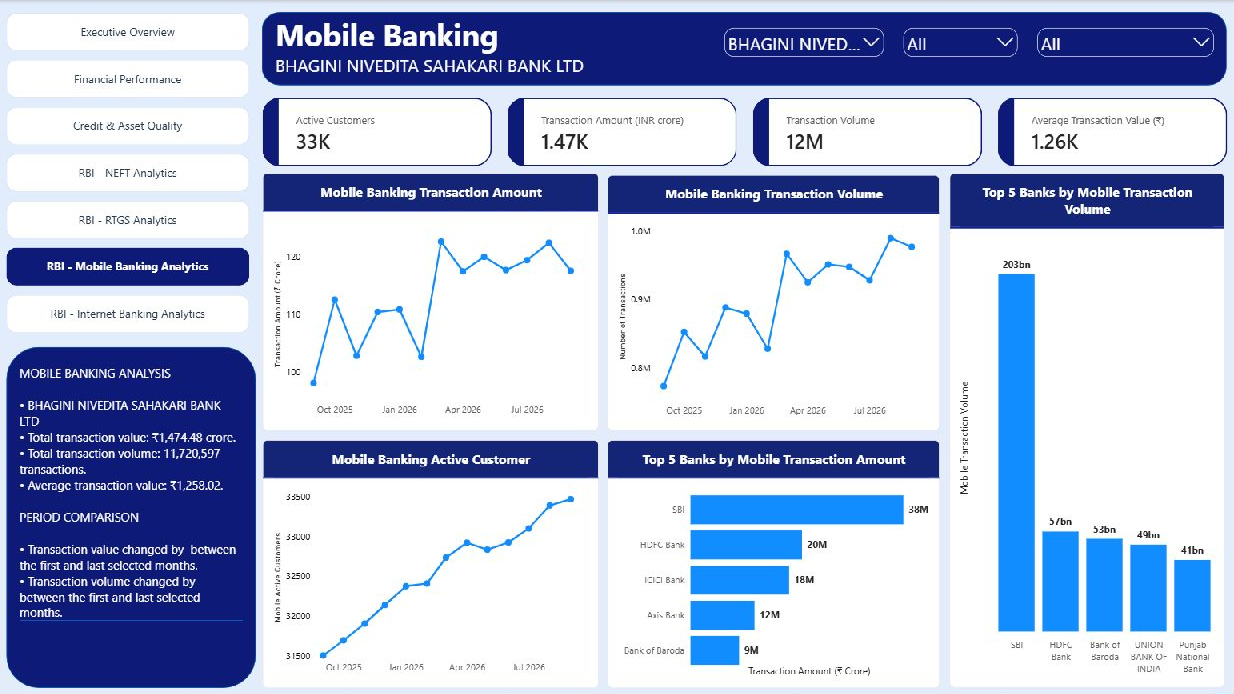

What the dashboard file says about the page in this screenshot:
{"tool":"powerbi","page":{"name":"RBI - Mobile Banking Analytics","canvas":[1920,1080],"ordinal":5},"visuals":[{"type":"shape","box":[408,18,1510,114],"z":0},{"type":"slicer","fields":{"Values":["Mobile Banking.Year"]},"box":[1597.3,18.5,304.6,111.1],"z":1000},{"type":"pageNavigator","box":[0,0,408.3,539.3],"z":2000},{"type":"shape","box":[0,540,408,530],"z":3000},{"type":"textbox","box":[31.4,567.1,347.1,502.9],"z":4000},{"type":"textbox","title":"Mobile Banking","box":[408.5,10.5,703.3,132.7],"z":5000},{"type":"cardVisual","fields":{"Data":["Mobile Banking.Mobile Active Customers (reported)","Mobile Banking.Mobile Transaction Amount (INR crore)","Mobile Banking.Mobile Transaction Volume","Mobile Banking.Mobile Average Transaction Value (₹)"]},"box":[408.5,132.7,1511.9,136.9],"z":6000},{"type":"lineChart","title":"Mobile Banking Transaction Amount ","fields":{"Category":["Mobile Banking.MonthDate"],"Y":["Mobile Banking.Mobile Transaction Amount (INR crore)"]},"box":[408.5,269.5,522.2,400.1],"z":7000},{"type":"lineChart","title":"Mobile Banking Transaction Volume ","fields":{"Category":["Mobile Banking.MonthDate"],"Y":["Mobile Banking.Mobile Transaction Volume"]},"box":[945.5,271.6,515.9,398],"z":8000},{"type":"clusteredBarChart","title":"Top 5 Banks by Mobile Transaction Amount","fields":{"Category":["Mobile Banking.Bank Name"],"Y":["Mobile Banking.Mobile Transaction Amount (INR crore)"]},"box":[945.5,684.4,515.9,385.3],"z":9000},{"type":"clusteredColumnChart","title":"Top 5 Banks by Mobile Transaction Volume","fields":{"Category":["Mobile Banking.Bank Name"],"Y":["Mobile Banking.Mobile Transaction Volume"]},"box":[1476.1,269.5,427.5,800.2],"z":10000},{"type":"slicer","fields":{"Values":["Mobile Banking.Month"]},"box":[1389.4,18.5,207.9,111.1],"z":11000},{"type":"slicer","fields":{"Values":["Mobile Banking.Bank Name"]},"box":[1111.8,19,278,111.6],"z":12000},{"type":"lineChart","title":"Mobile Banking Active Customer","fields":{"Category":["Mobile Banking.MonthDate"],"Y":["Mobile Banking.Mobile Active Customers"]},"box":[408.5,684.4,522.2,385.3],"z":13000}]}

Visuals, with their boxes on the page's 1920x1080 design canvas (x1, y1, x2, y2). These are canvas units, not pixel positions in the 1234x694 screenshot, which may show the page scaled, cropped or inside an application window:
shape: <region>408, 18, 1918, 132</region>
slicer - Mobile Banking.Year: <region>1597, 18, 1902, 130</region>
pageNavigator: <region>0, 0, 408, 539</region>
shape: <region>0, 540, 408, 1070</region>
textbox: <region>31, 567, 378, 1070</region>
"Mobile Banking" textbox: <region>408, 10, 1112, 143</region>
cardVisual - Mobile Banking.Mobile Active Customers (reported) x Mobile Banking.Mobile Transaction Amount (INR crore): <region>408, 133, 1920, 270</region>
"Mobile Banking Transaction Amount " lineChart: <region>408, 270, 931, 670</region>
"Mobile Banking Transaction Volume " lineChart: <region>946, 272, 1461, 670</region>
"Top 5 Banks by Mobile Transaction Amount" clusteredBarChart: <region>946, 684, 1461, 1070</region>
"Top 5 Banks by Mobile Transaction Volume" clusteredColumnChart: <region>1476, 270, 1904, 1070</region>
slicer - Mobile Banking.Month: <region>1389, 18, 1597, 130</region>
slicer - Mobile Banking.Bank Name: <region>1112, 19, 1390, 131</region>
"Mobile Banking Active Customer" lineChart: <region>408, 684, 931, 1070</region>
